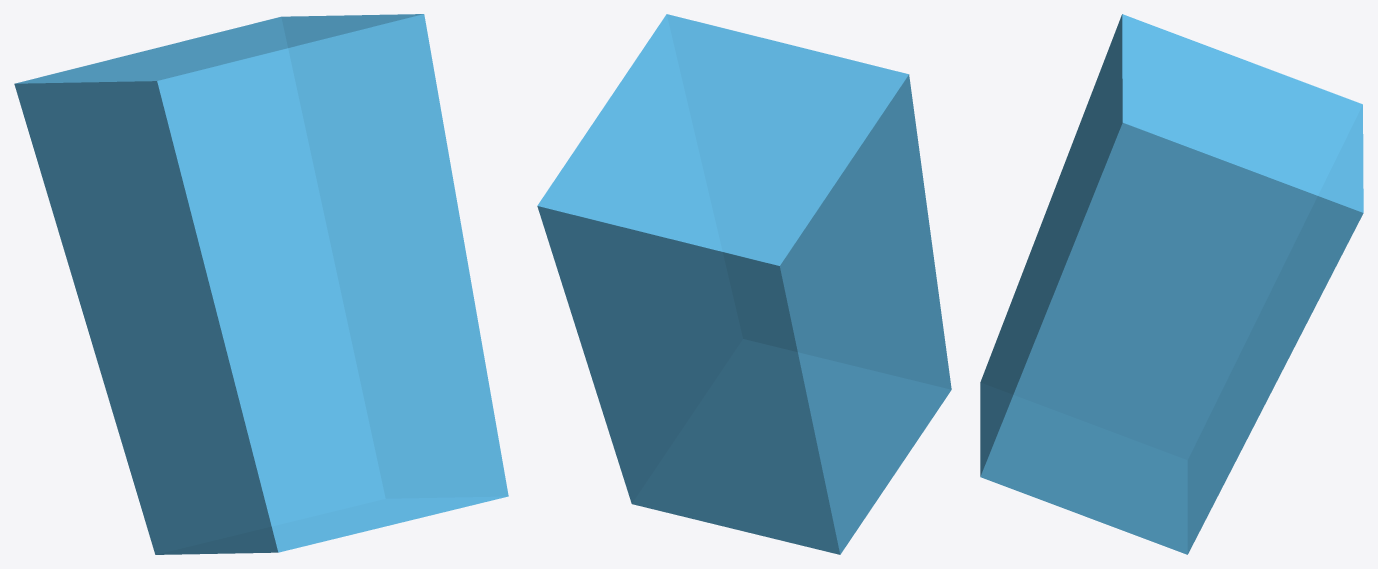
The model's file is Event_421115418_HBrechit_2.fbx.
3 views of the same model, side by side, from view 1: azimuth 30°, elevation 25°; view 2: azimuth 150°, elevation 25°; view 3: azimuth 270°, elevation 25° (orthographic). The views are drawn at different scales.
Parts seen in each view (by area): view 1: Model; view 2: Model; view 3: Model.
Part boxes in pixels (x1,y1,x2,y2): Model: [14, 14, 508, 554]; Model: [537, 14, 951, 554]; Model: [980, 14, 1363, 554].
Bounding box in the file's own units: 0.4657 × 0.8536 × 0.6859.
